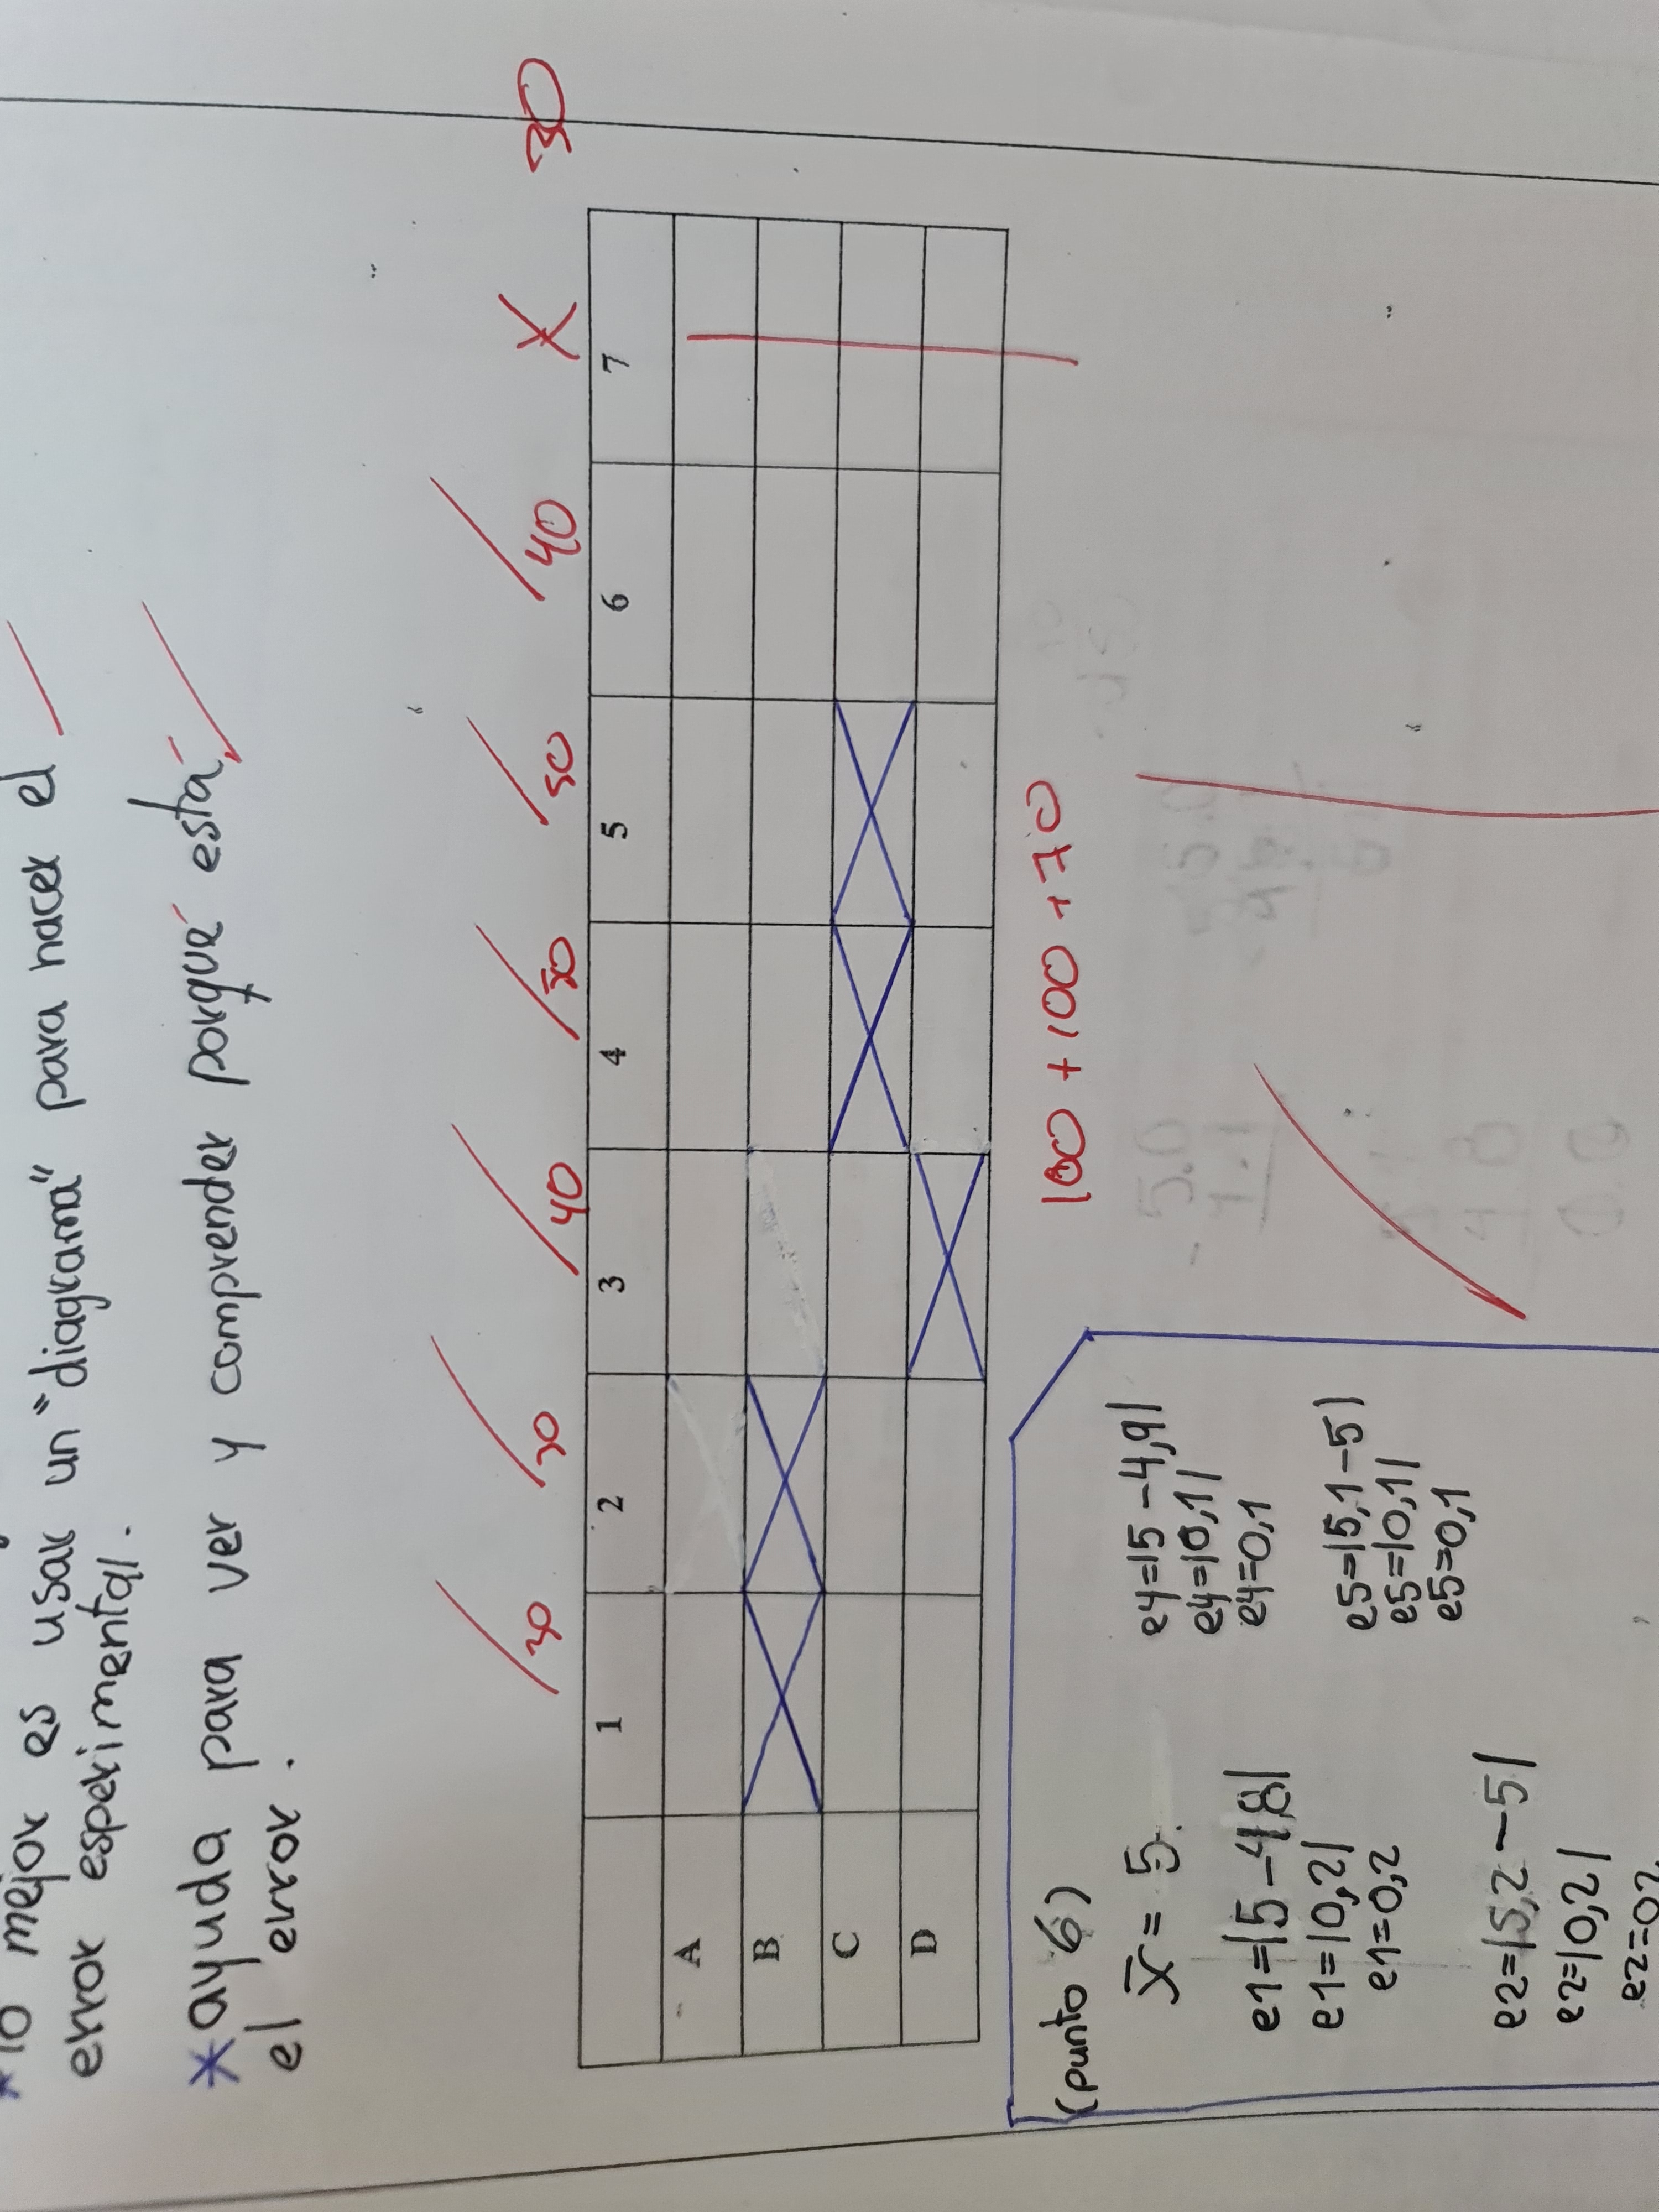column: (561, 1799, 999, 2080), (570, 678, 1018, 942), (570, 907, 1018, 1167), (565, 1571, 1000, 1836), (566, 1134, 1014, 1388), (570, 1357, 1004, 1606)
